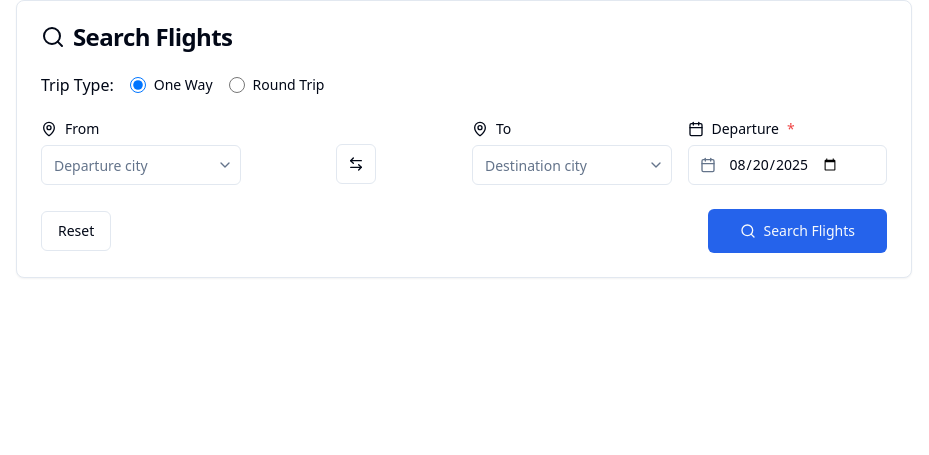
Test: FlightSearchForm › allows selection of destinations from dropdown
Focus the field labelled "From" at {"x": 141, "y": 165}, box top-left (41, 145), bottom-right (240, 185)
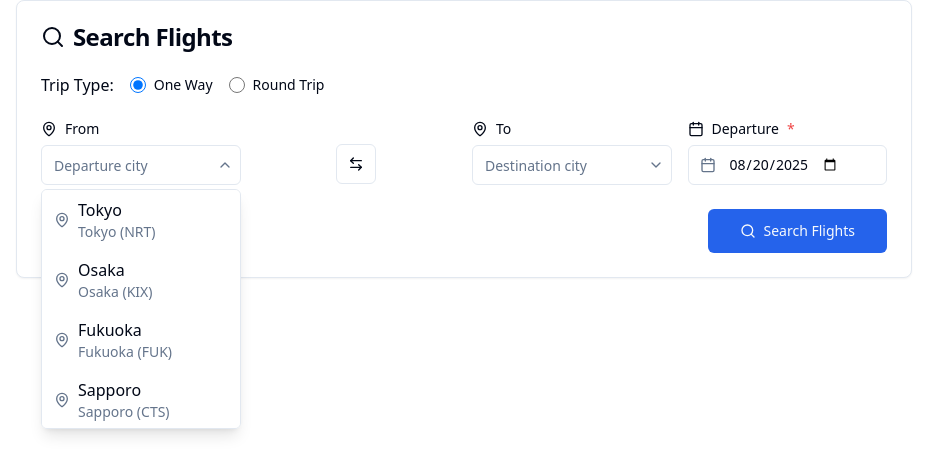
Click the text "Tokyo".
click(100, 210)  # box top-left (78, 199), bottom-right (122, 221)
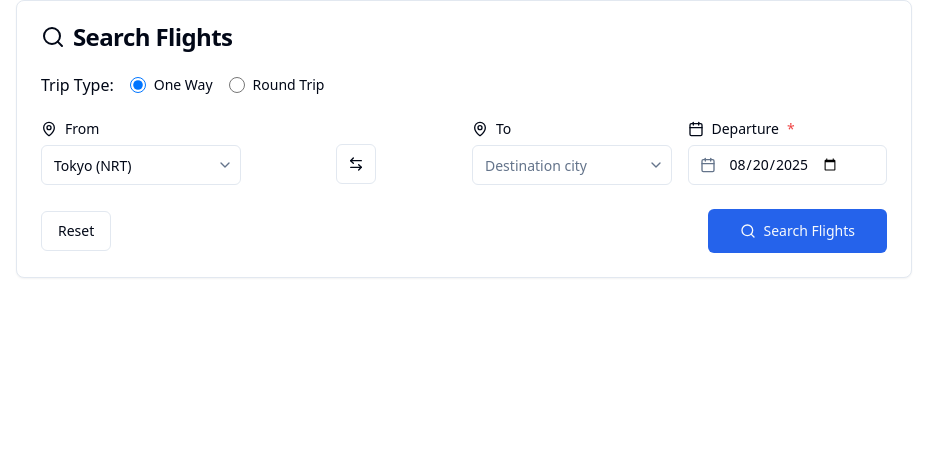
Result: the field labelled "From" holds "Tokyo (NRT)" at top-left (41, 145), bottom-right (240, 185)
